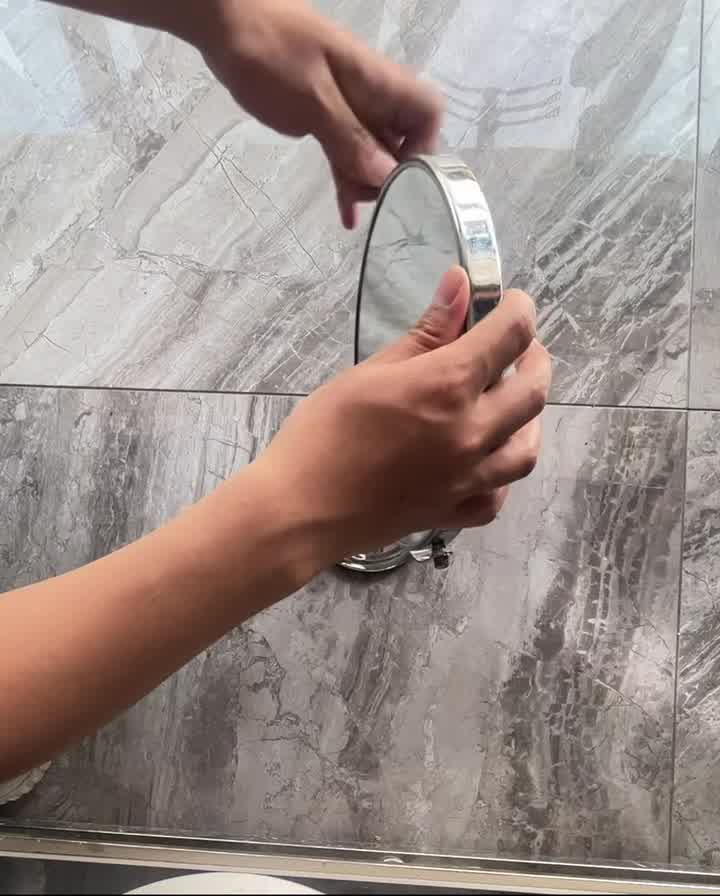mirror: (359, 155, 541, 558)
